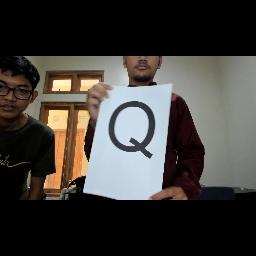q: (106, 99, 160, 167)
